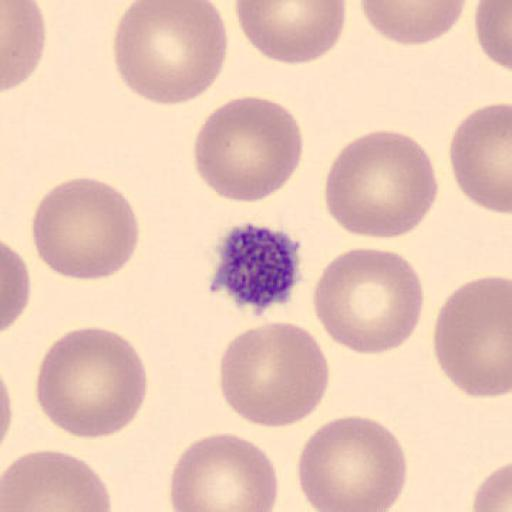Platelet: (205, 221, 306, 318)
RBC: (34, 325, 148, 441), (322, 129, 440, 241), (110, 0, 230, 107), (312, 245, 426, 357), (216, 320, 332, 430), (191, 94, 305, 205), (30, 175, 142, 282), (296, 413, 408, 512), (434, 274, 512, 400), (167, 431, 280, 512), (235, 0, 347, 66), (0, 448, 113, 512), (448, 102, 512, 215), (358, 0, 470, 45), (1, 0, 47, 93), (1, 239, 32, 335), (473, 0, 512, 73), (472, 460, 512, 512), (0, 368, 14, 450)
